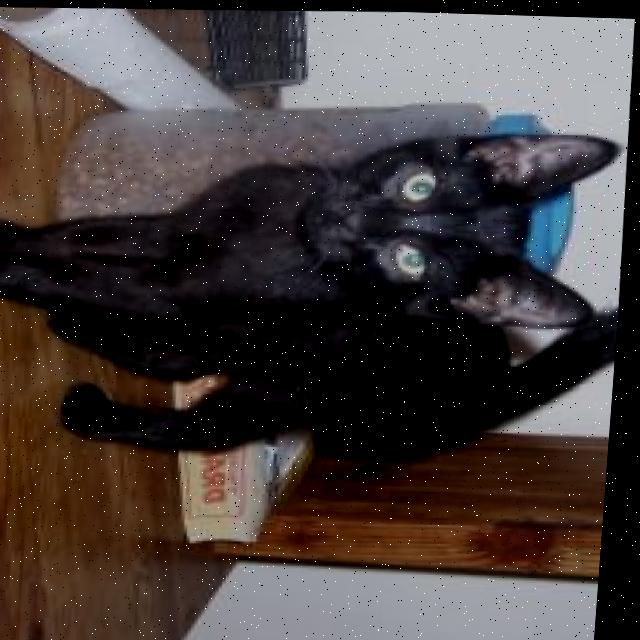Bombay: (0, 110, 634, 478)
